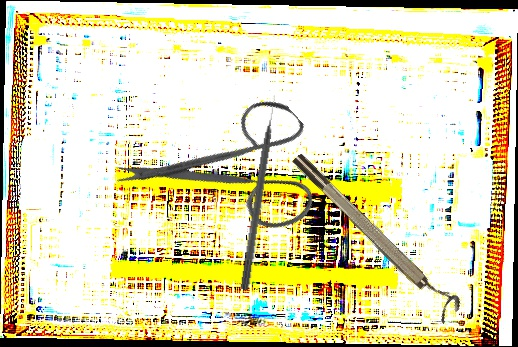Fixation Ring: (289, 143, 465, 325)
Iris Scissors: (109, 53, 351, 295)
Pusher: (239, 94, 282, 291)
